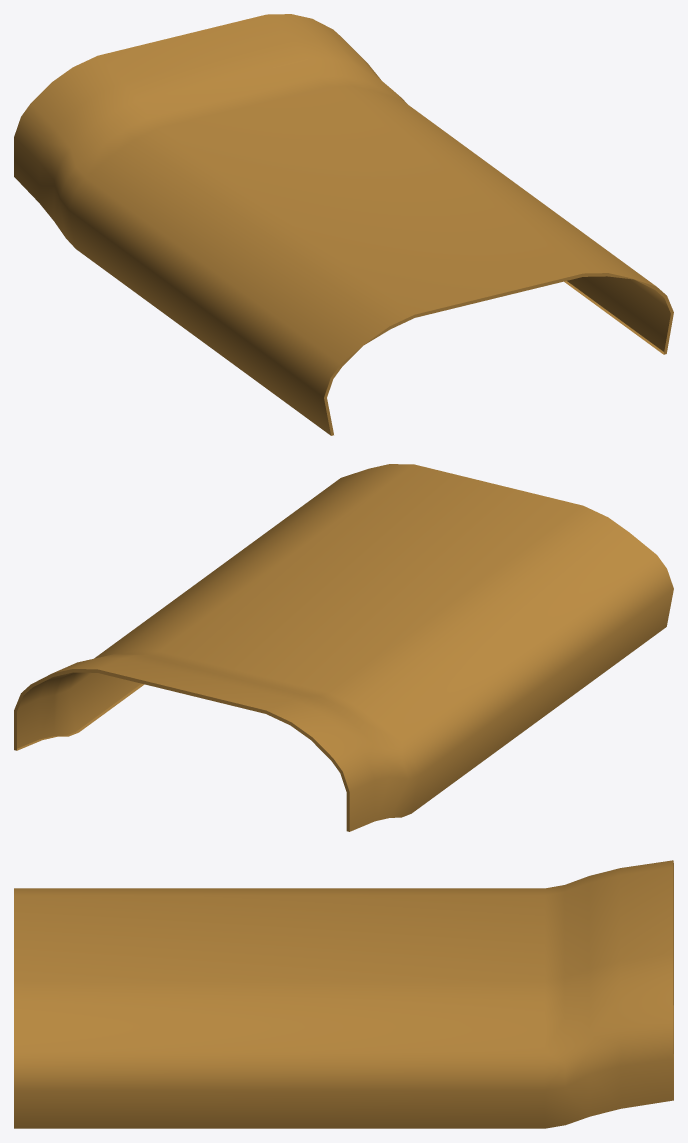
Rendered from Single_Bed_Sheet.fbx.
3 views of the same model, one above another, from view 1: azimuth 30°, elevation 25°; view 2: azimuth 150°, elevation 25°; view 3: azimuth 270°, elevation 25° (orthographic). The views are drawn at different scales.
Parts seen in each view (by area): view 1: Single_Bed_Sheet; view 2: Single_Bed_Sheet; view 3: Single_Bed_Sheet.
Part boxes in pixels (x1=…): Single_Bed_Sheet: x1=14, y1=14, x2=673, y2=435; Single_Bed_Sheet: x1=14, y1=464, x2=673, y2=831; Single_Bed_Sheet: x1=14, y1=860, x2=673, y2=1128.
Size of the model in its own units: 109 by 38.24 by 172.
1 material, 1 textured.
